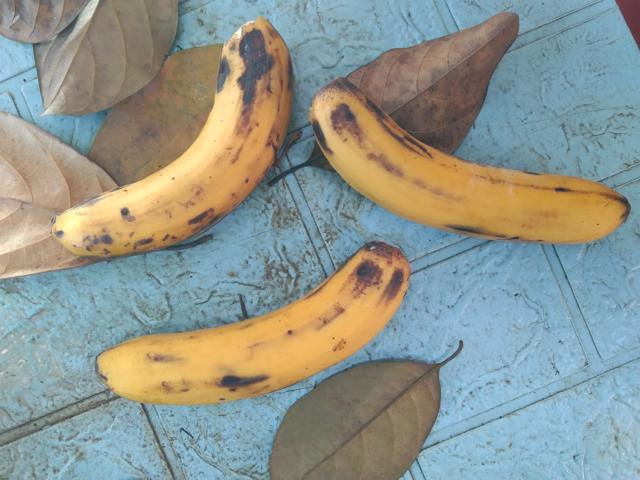overripe: (37, 16, 292, 277)
ripe: (64, 242, 412, 431), (297, 67, 635, 253)
